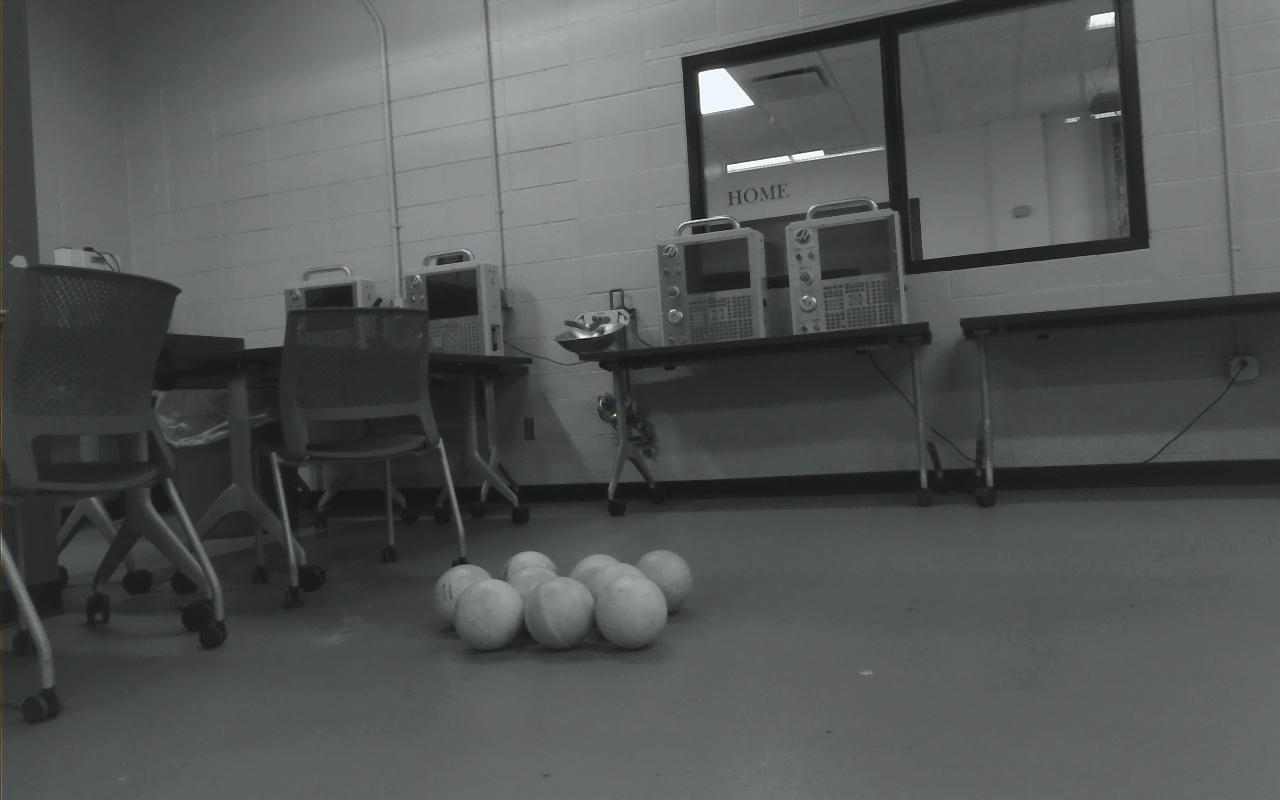Fuel: (594, 574, 667, 649), (453, 578, 524, 652), (525, 576, 596, 650), (433, 564, 498, 634), (584, 562, 649, 631), (630, 549, 695, 618), (506, 566, 568, 636), (500, 550, 562, 615), (567, 554, 628, 618)
